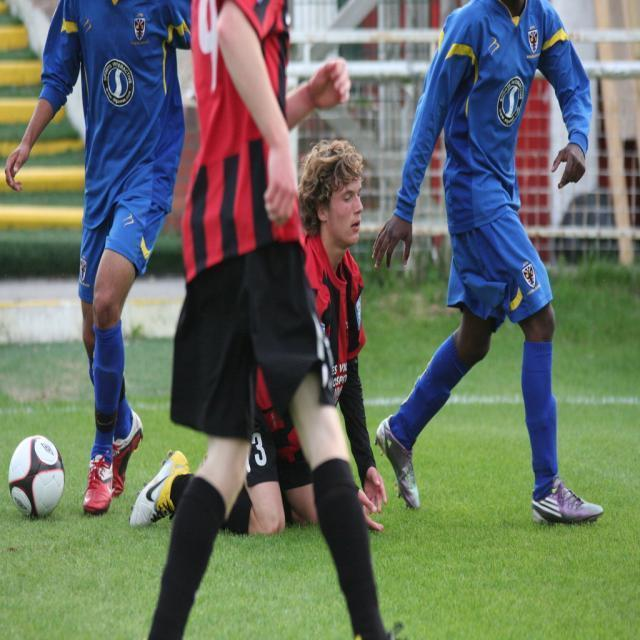ball: (8, 434, 64, 522)
